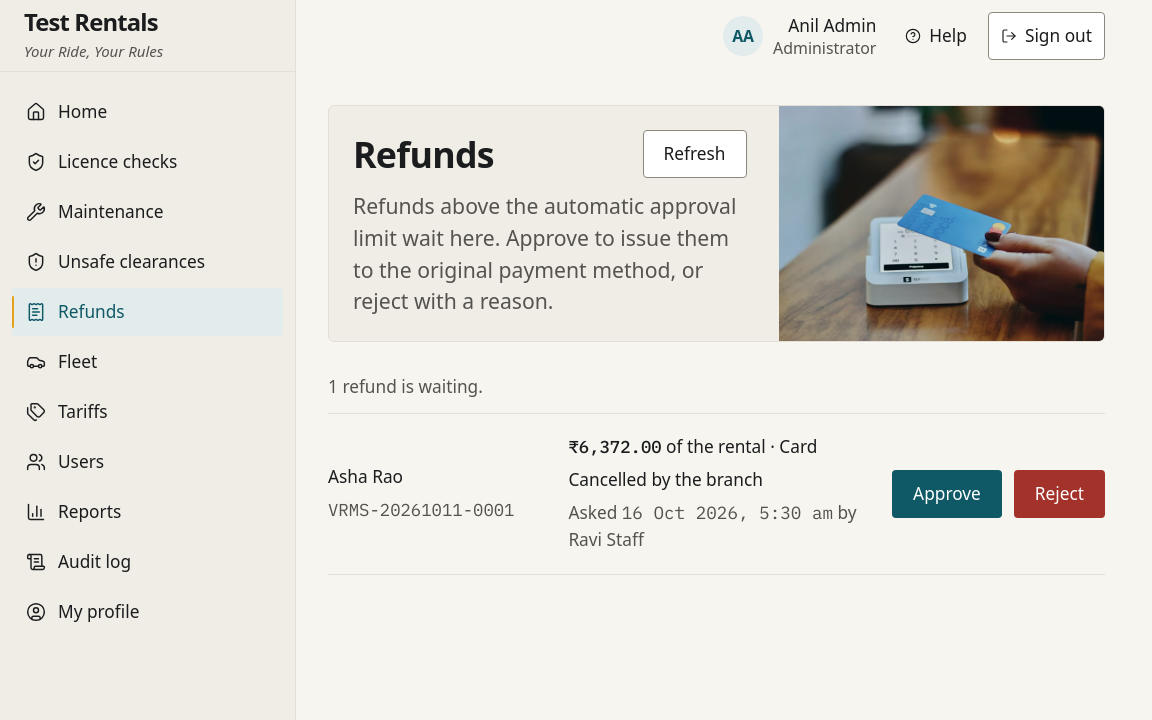
refund approval (UC 13 Approve Refund) › a wrong password is shown on its field and nothing changes (SE-9)
Step 1. Click the button "Approve" → (947, 494), box [892,470,1002,518]
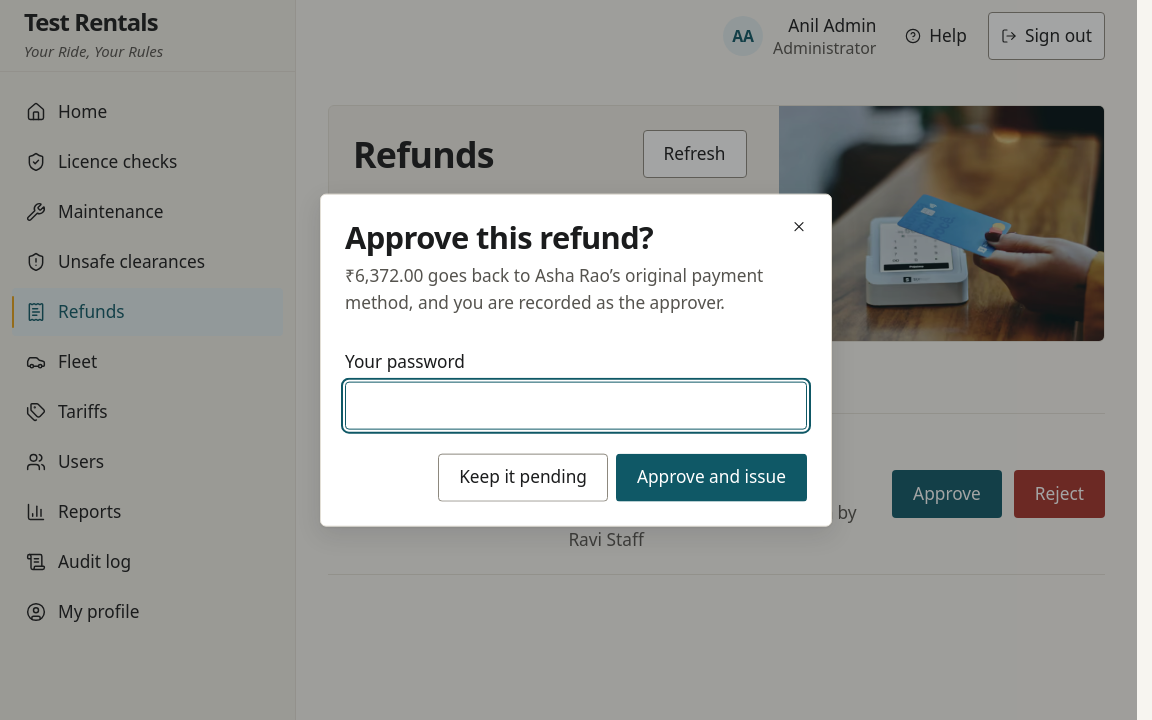
Step 2. Type "wrong" into the password field labelled "Your password" → (576, 405), box [345,381,807,429]
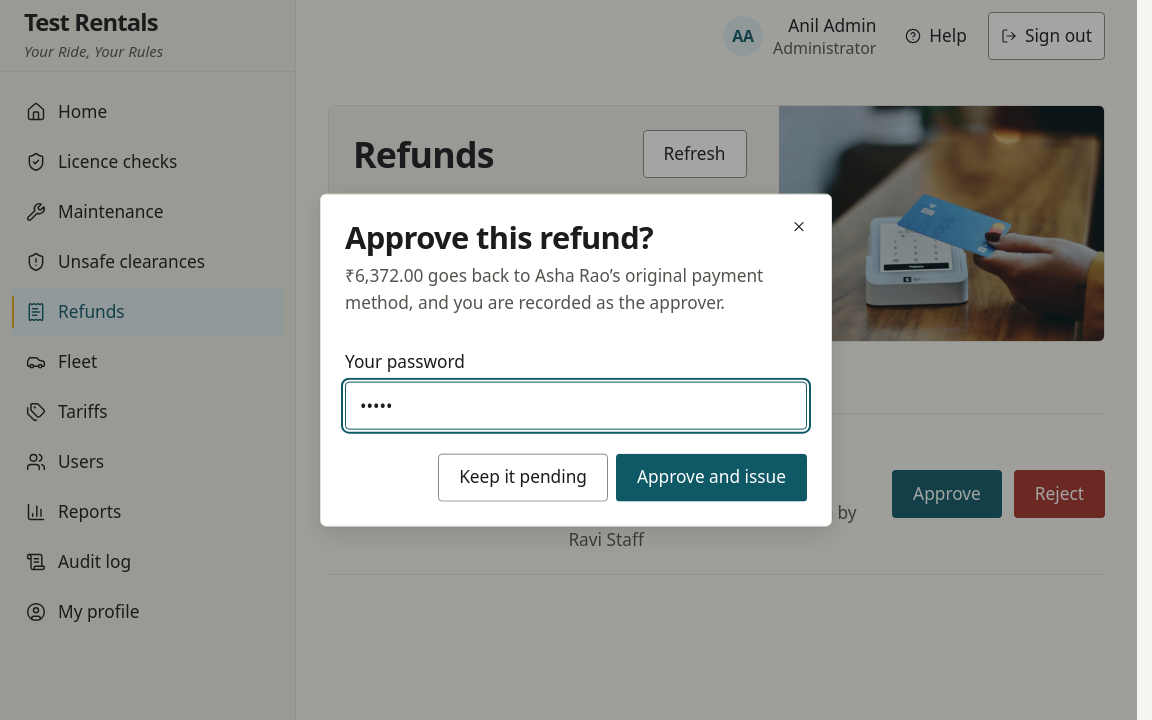
Step 3. Click the button "Approve and issue" → (712, 477), box [616,453,807,501]
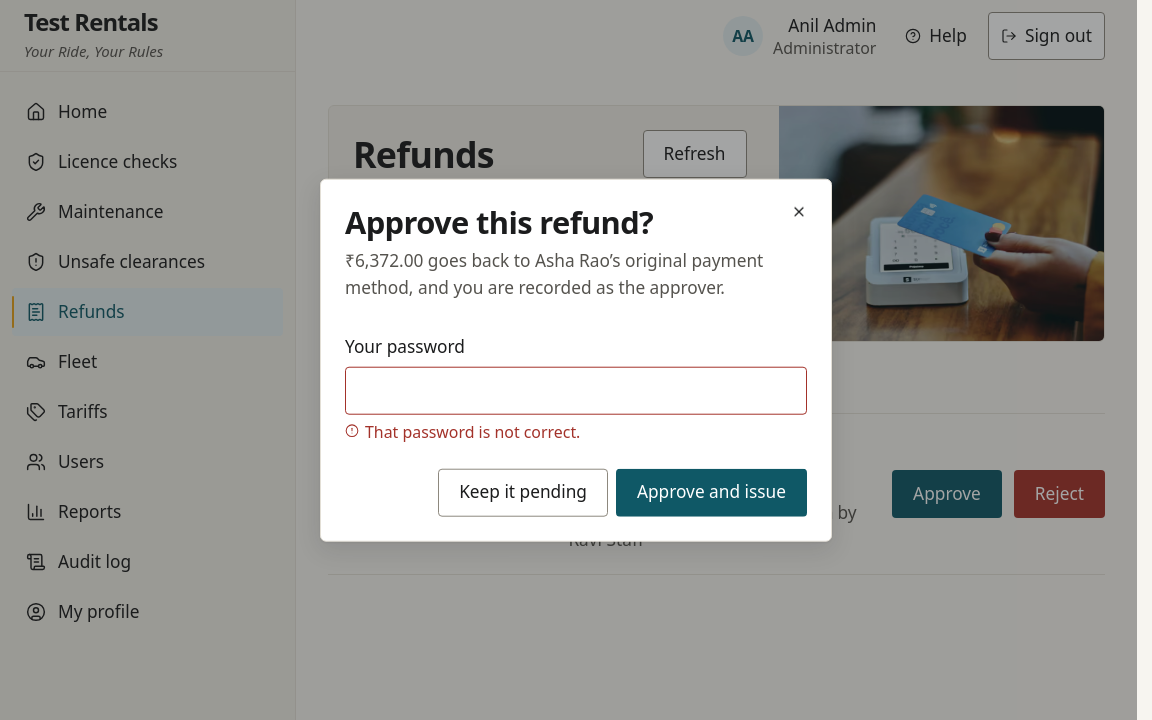
Check: the text "That password is not correct." is shown, box [365,420,580,444]
Check: the password field labelled "Your password" is empty, box [345,366,807,414]
